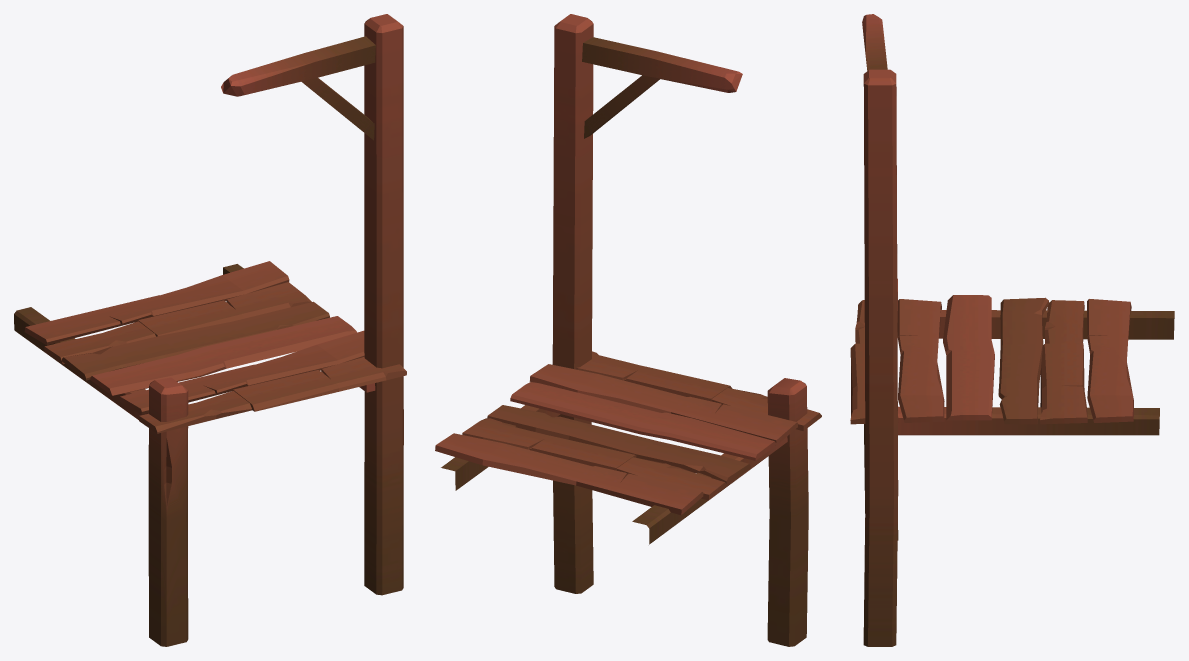
3 renders of one model, left to right at view 1: azimuth 30°, elevation 25°; view 2: azimuth 150°, elevation 25°; view 3: azimuth 270°, elevation 25°, orthographic.
Visible parts, largest first — view 1: PierPole; view 2: PierPole; view 3: PierPole.
Part boxes in pixels (box(x1,y1,x2,y2)): PierPole: box(14, 14, 406, 646); PierPole: box(435, 14, 821, 646); PierPole: box(850, 14, 1174, 646).
Bounding box in the file's own units: 41.94 × 90 × 46.66.
Materials: 1 (1 with a texture image).
